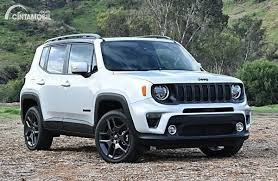mobil: (21, 30, 252, 167)
